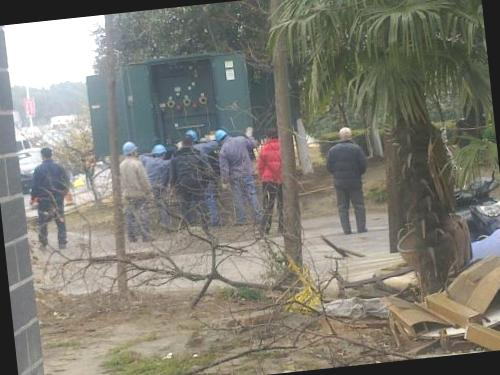no_helmet: (262, 122, 284, 146), (335, 122, 356, 146), (38, 141, 56, 165)
